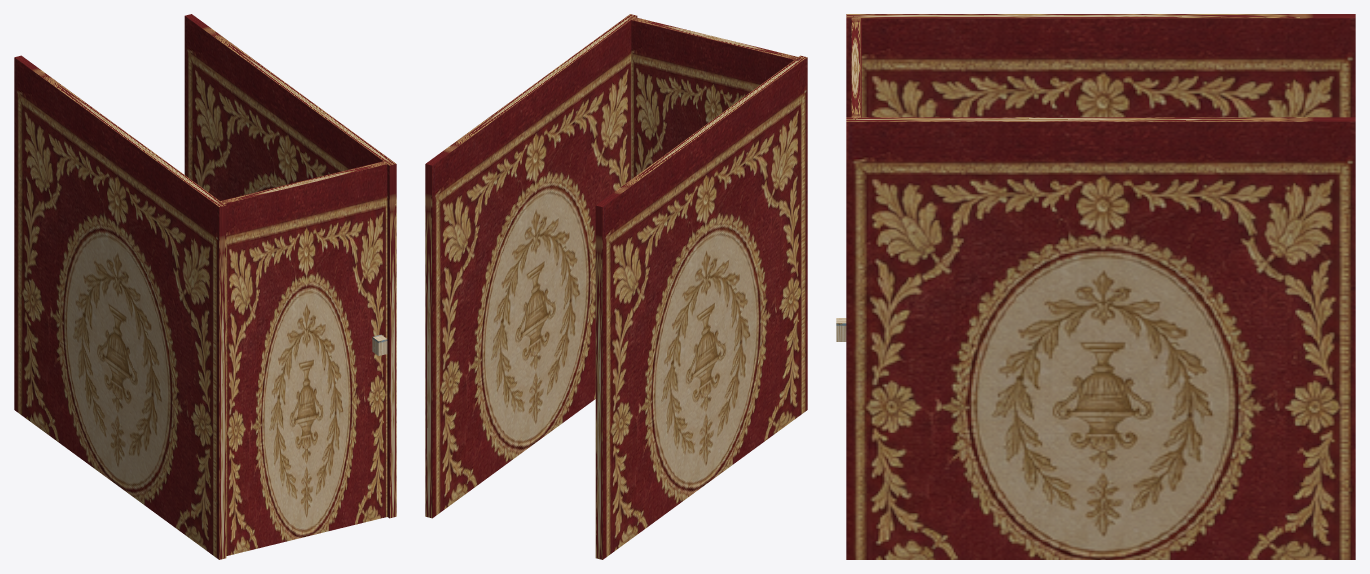
The model's file is bath-stall.gltf.
The picture shows the model from 3 angles, left to right: view 1: azimuth 30°, elevation 25°; view 2: azimuth 150°, elevation 25°; view 3: azimuth 270°, elevation 25°; orthographic projection. The views are drawn at different scales.
Visible parts, largest first — view 1: kit:0:furniture:panel:; view 2: kit:0:furniture:panel:; view 3: kit:0:furniture:panel:.
Boxes of the visible parts, x1,y1,x2,y2 form: kit:0:furniture:panel:: (14, 14, 396, 559); kit:0:furniture:panel:: (425, 14, 807, 559); kit:0:furniture:panel:: (846, 14, 1355, 559).
Size of the model in its own units: 1 by 1.9 by 2.04.
2 materials, 2 textured.
